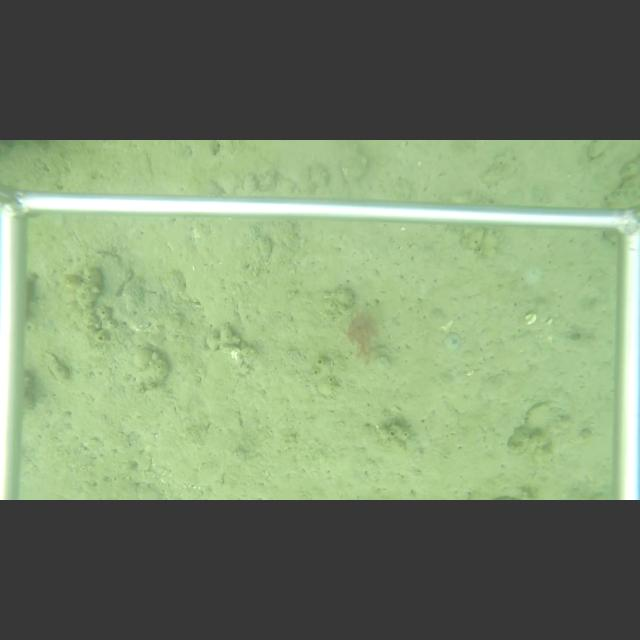Oyster-Closed: (42, 349, 73, 381)
